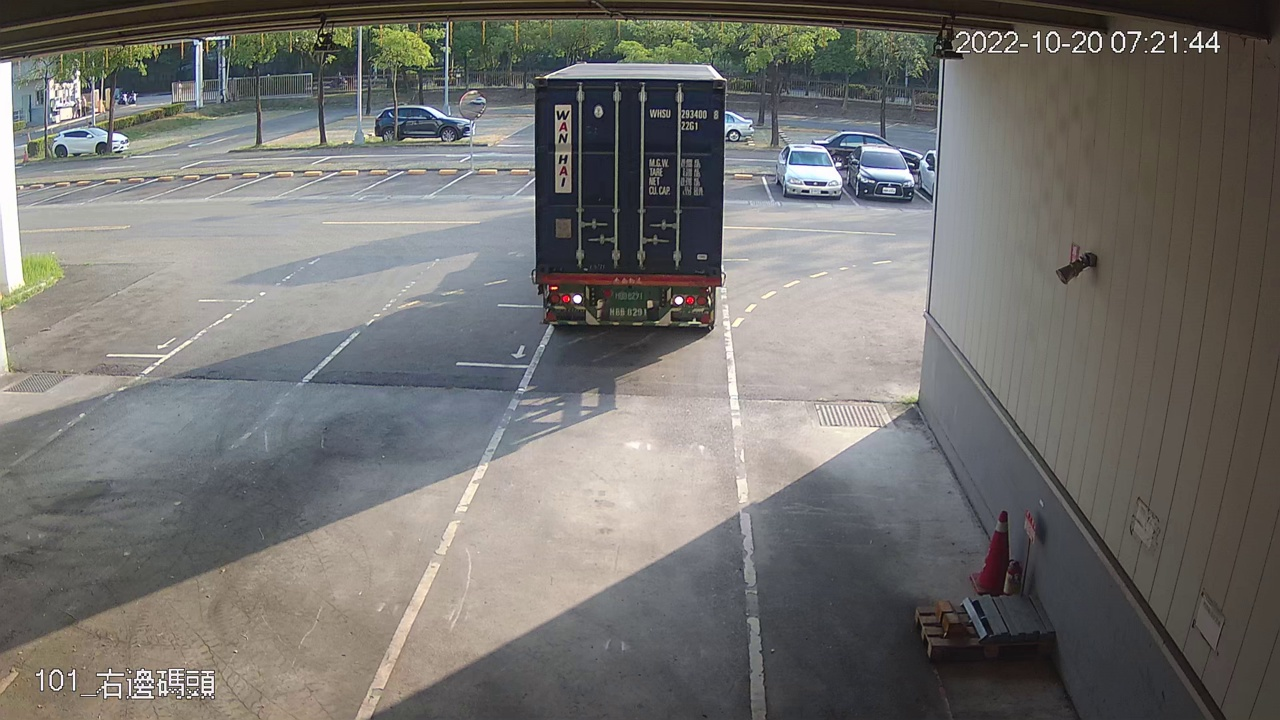container: (647, 103, 721, 135)
